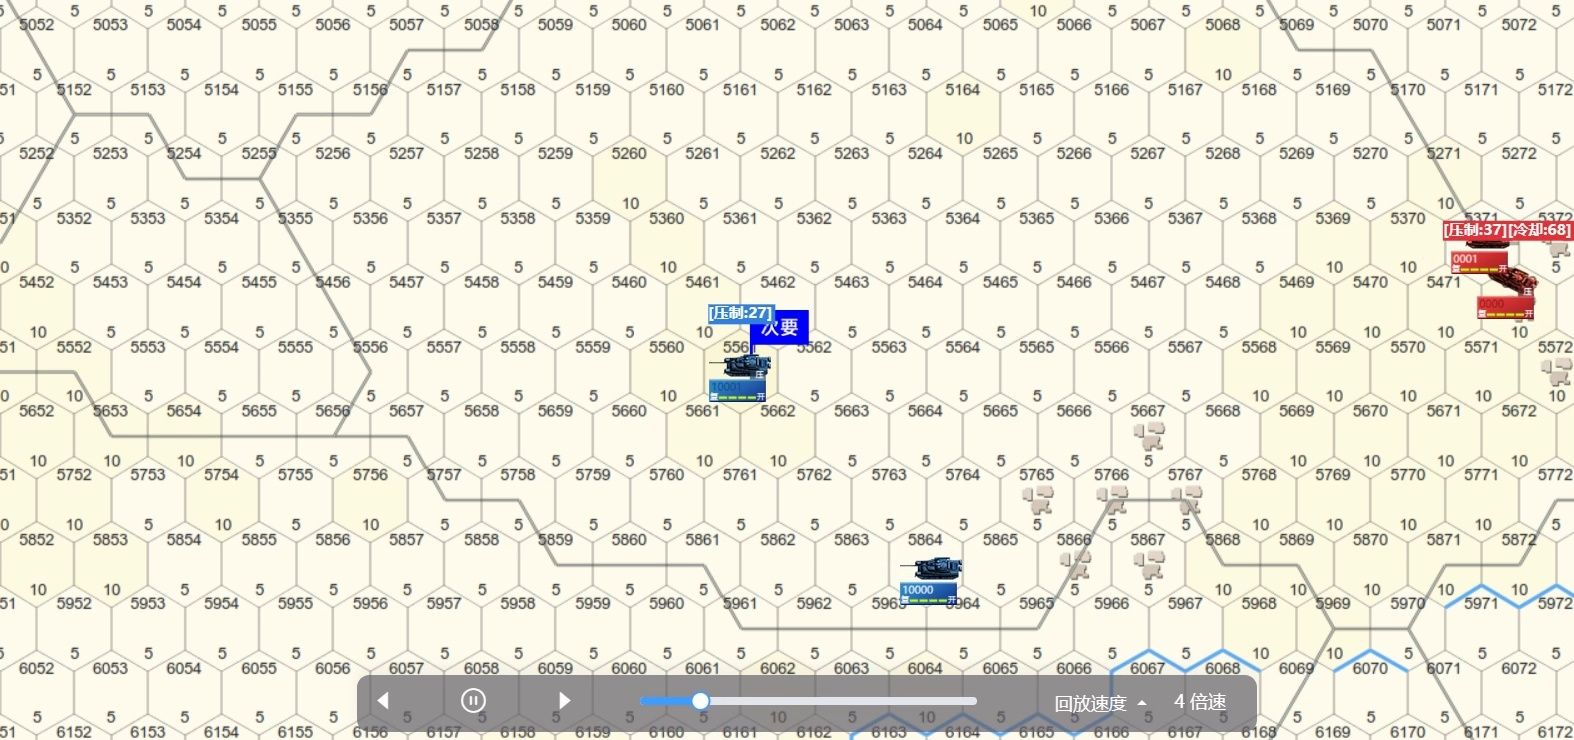blue_tank: (711, 347, 769, 400), (906, 553, 961, 598)
red_tank: (1451, 226, 1514, 274), (1479, 271, 1535, 321)
